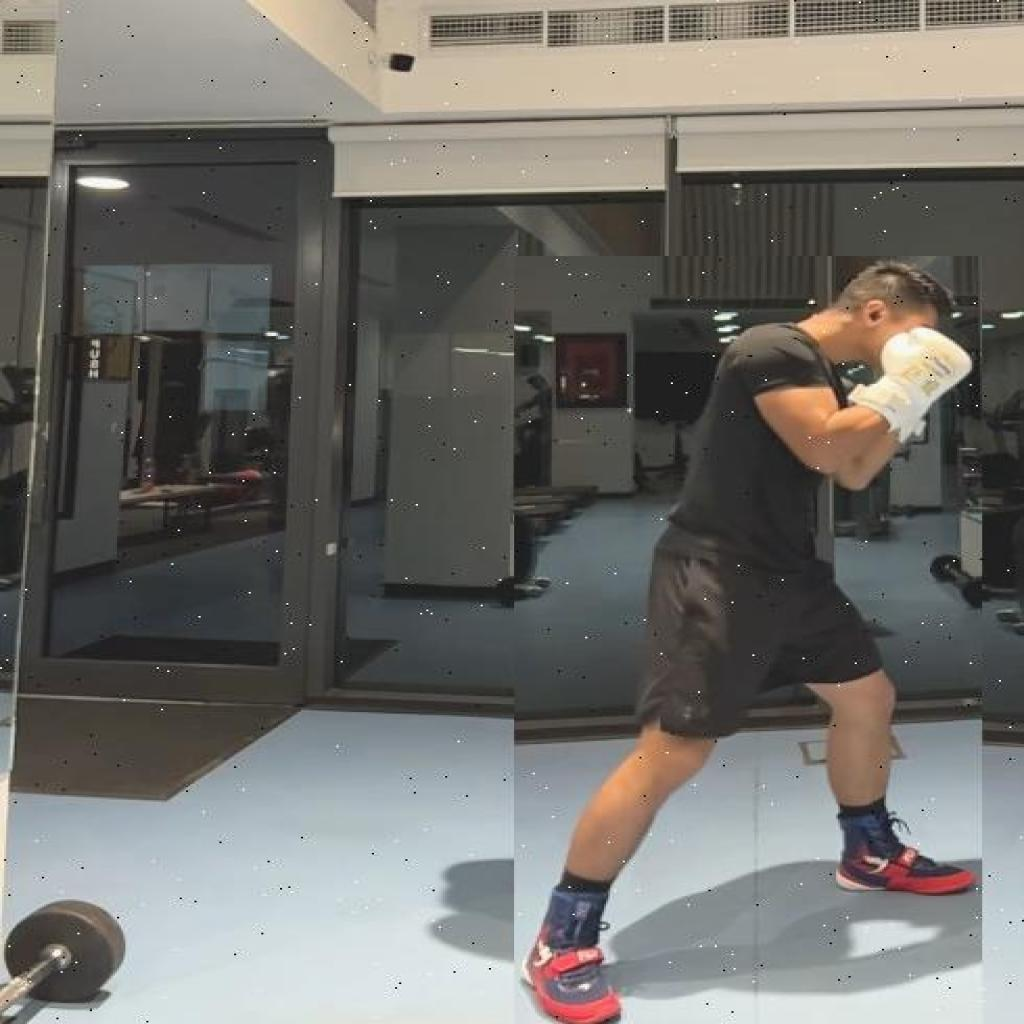no punch: (514, 256, 982, 1023)
